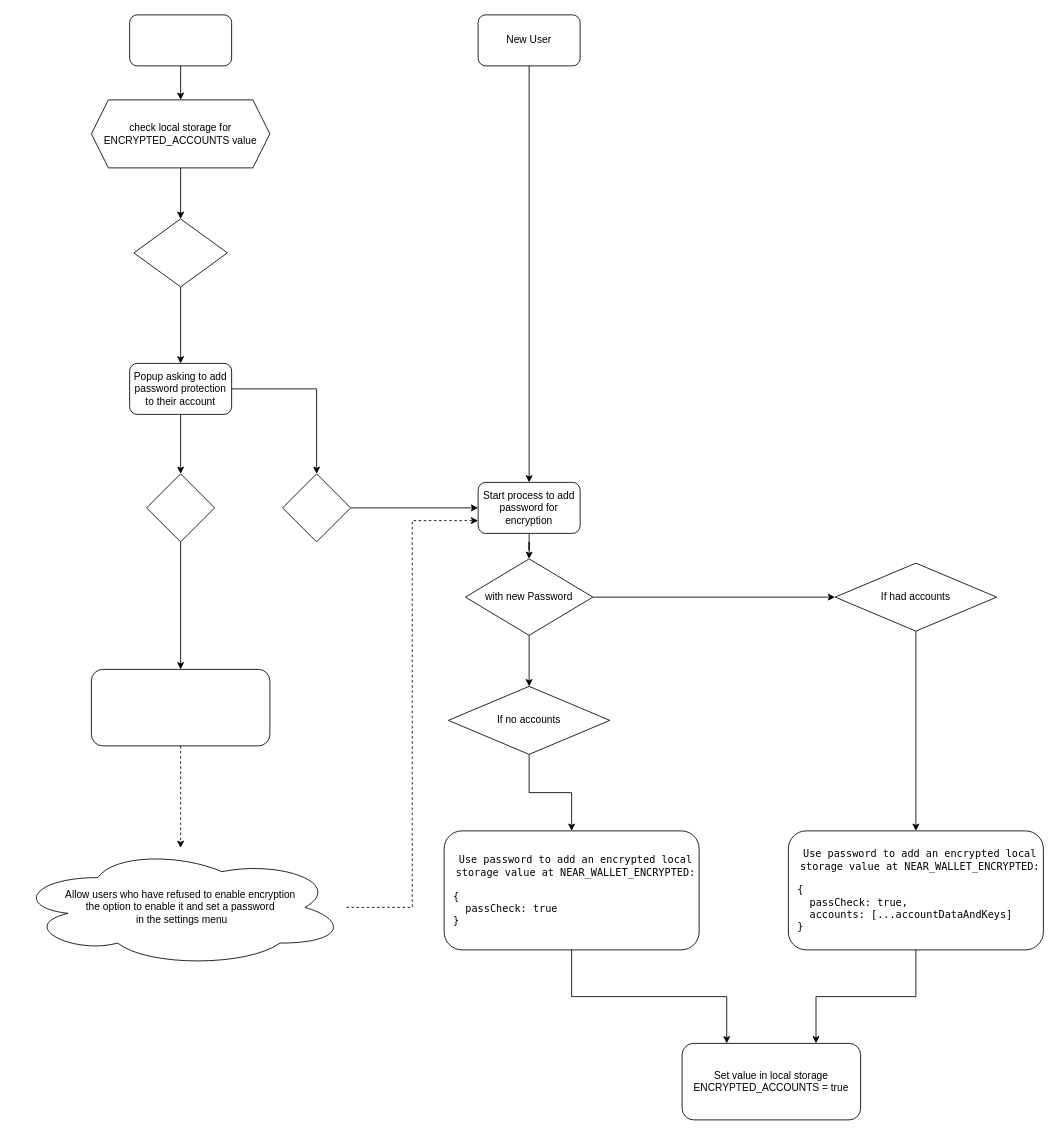
Image size: 1058x1135. Some labels were removed from this diagram. Here are the shapes that lost their labels. From the top down, the centre of each, then its label:
pixel 180 40: Current User
pixel 180 252: if undefined
pixel 180 507: REFUSE
pixel 316 507: ACCEPT
pixel 180 707: Set value in local storage ENCRYPTED_ACCOUNTS = false
